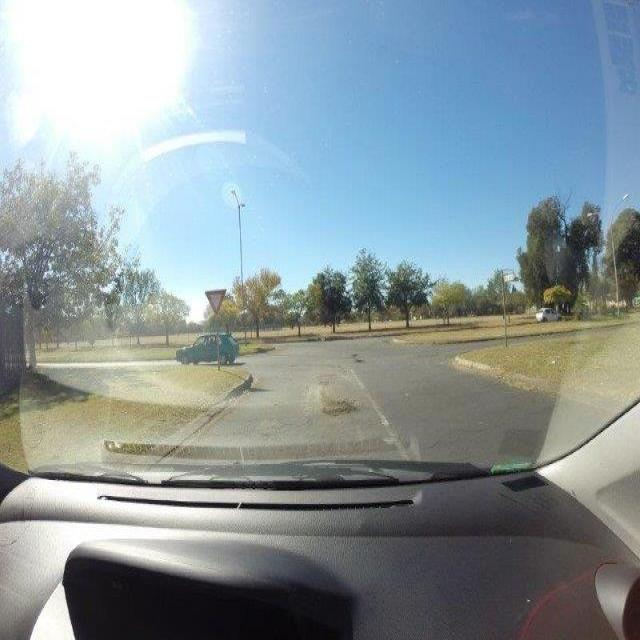lubang: (314, 392, 363, 416), (313, 370, 348, 388)
